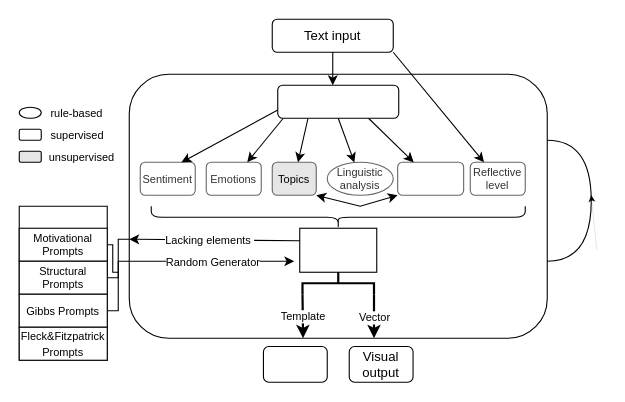
The diagram is 625 pixels wide and 402 high, and some of its shapes have lost their labels. The shapes that lost their labels are listed below. From the top down, each one's box as (x1, y1, x2, y2) in pixels, then its label:
(277, 84, 399, 118): Sentence segmentation
(397, 161, 464, 195): Gibbs cycle
(299, 227, 377, 272): Feedback
(18, 205, 107, 360): DB
(262, 345, 327, 382): Textual output
